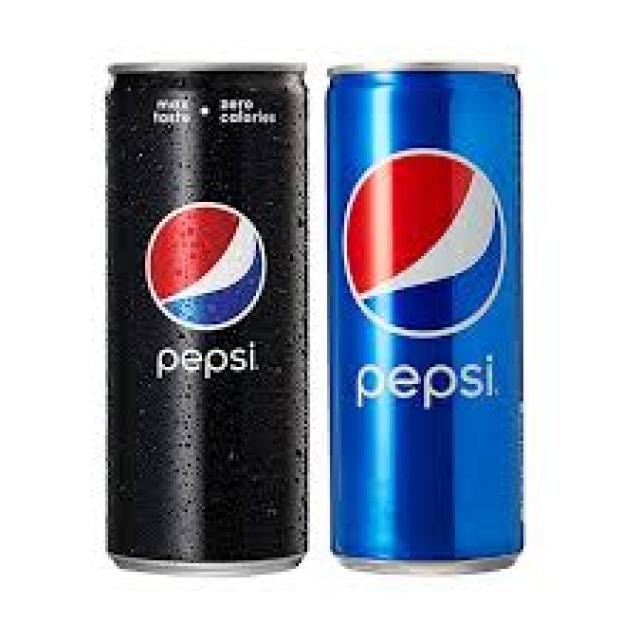can: (102, 59, 312, 573), (322, 63, 526, 577)
